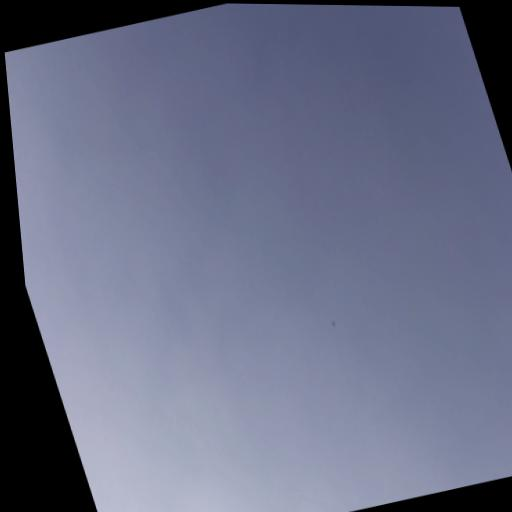drones: (331, 320, 337, 328)
